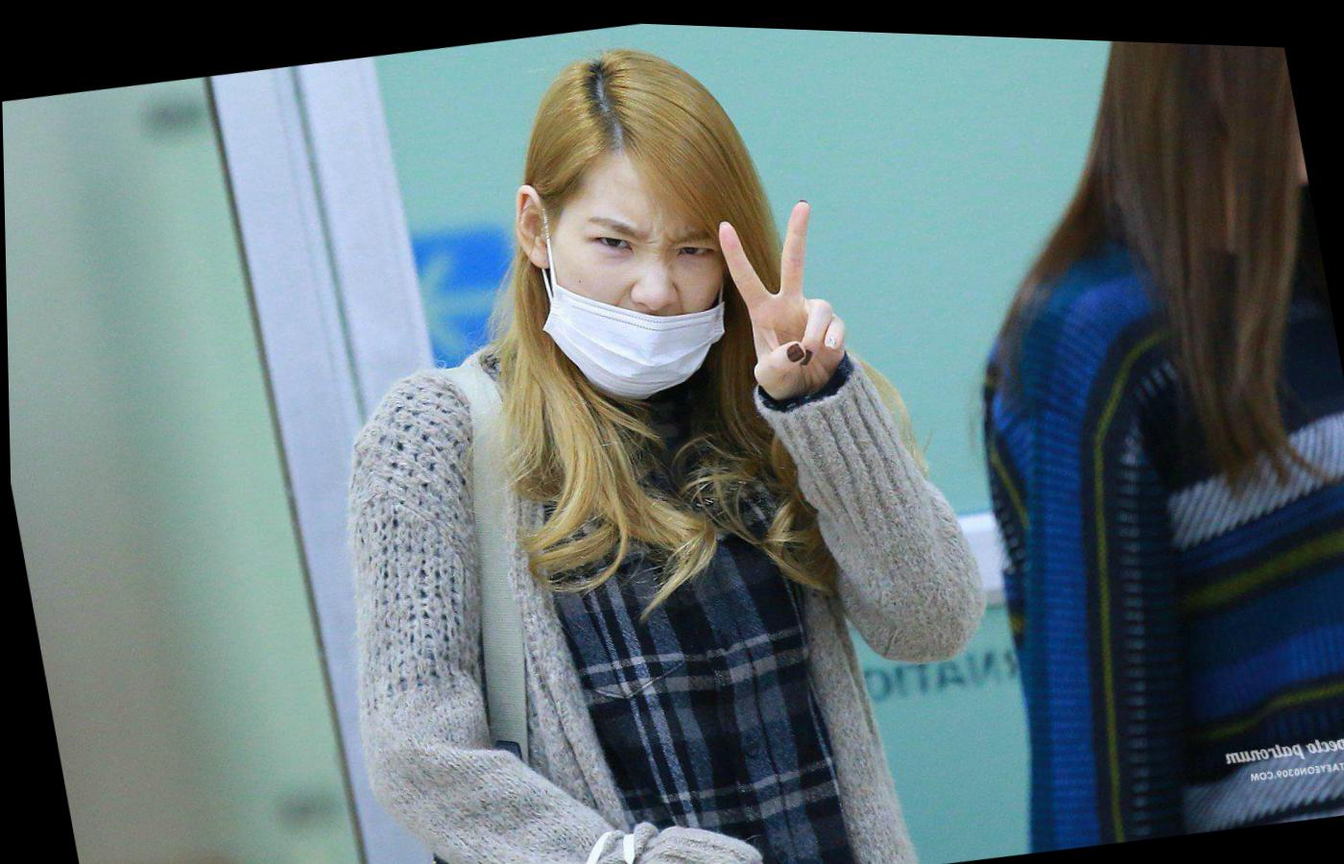WRONG: (534, 173, 748, 410)
